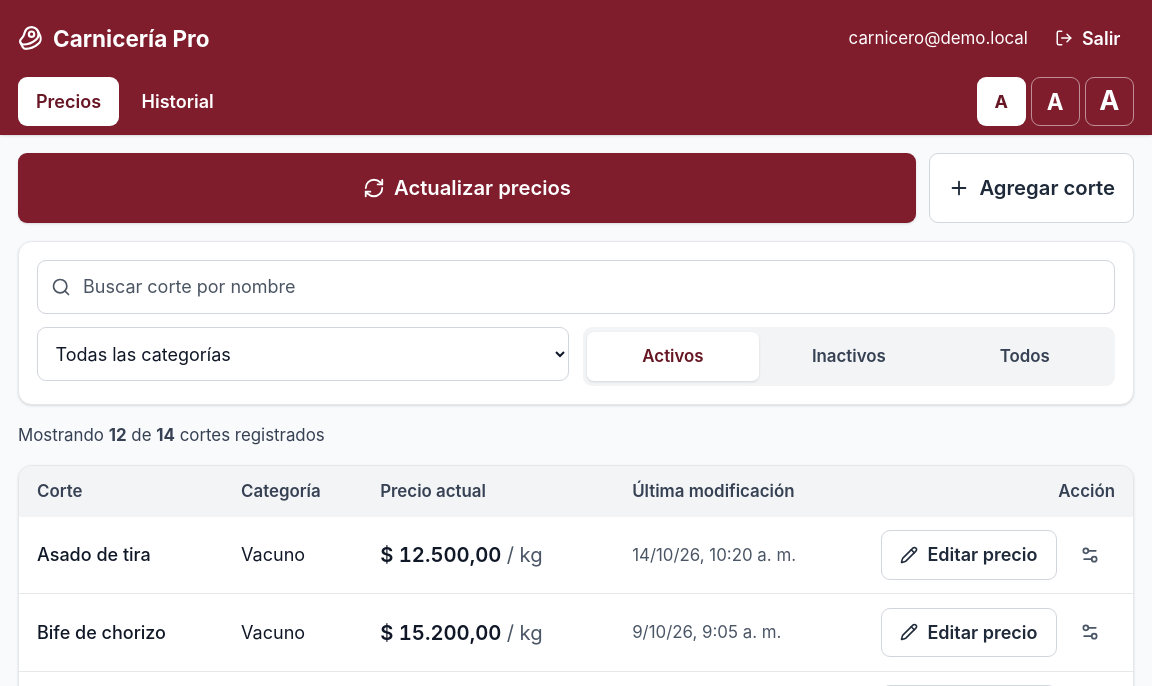
it: DashboardPage › muestra el error del servidor y conserva la edición si el precio cambió
This screenshot has width=1152, height=686.
Click the button with aria-label "Editar precio de Asado de tira" at (969, 555), box [881,530,1056,580]
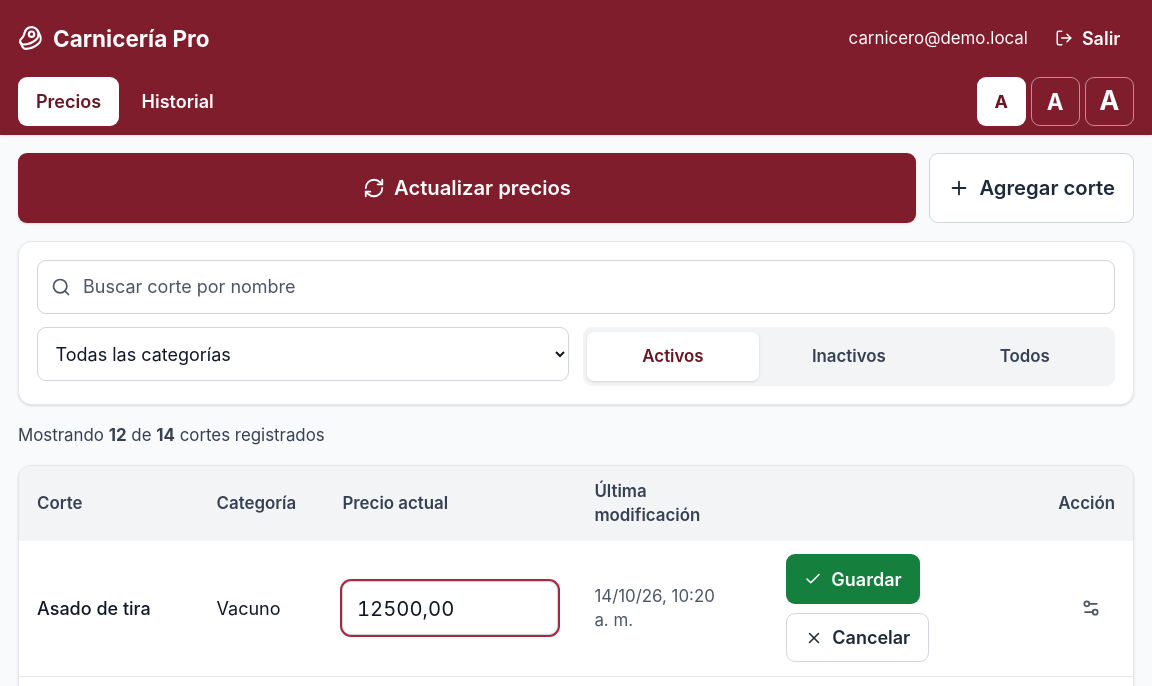
Replace the text in the field named "Nuevo precio de Asado de tira" with "13000" at (450, 608), box [342,581,558,635]
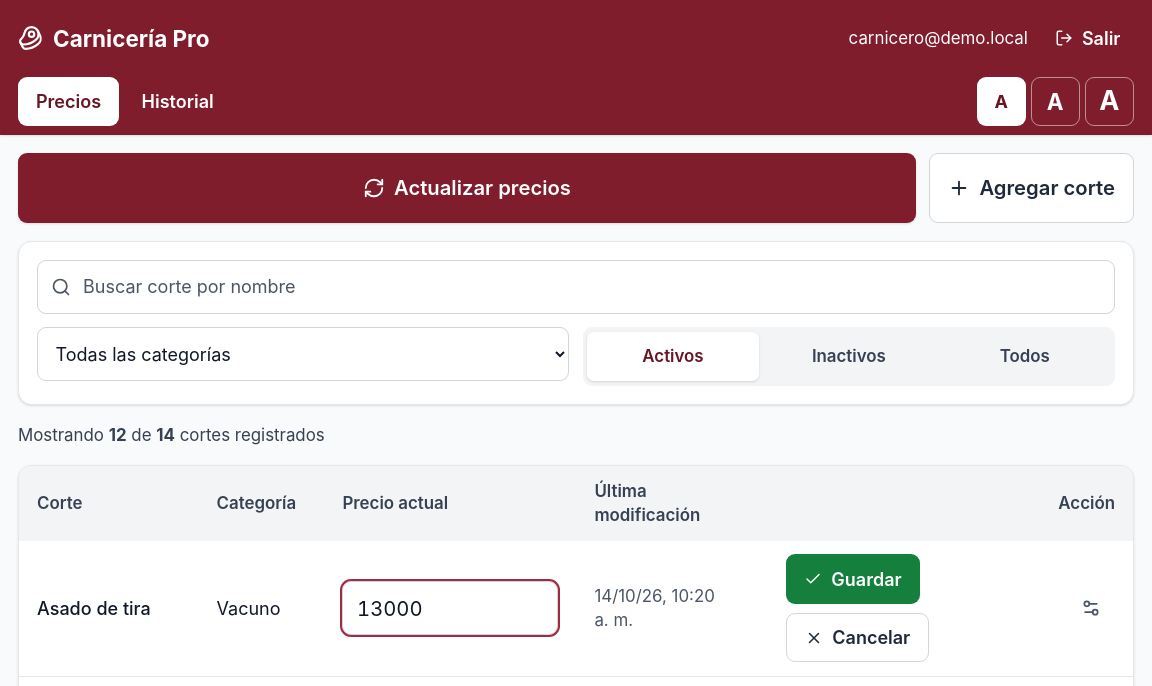
Click the button "Guardar" at (853, 579), box [786,554,920,604]
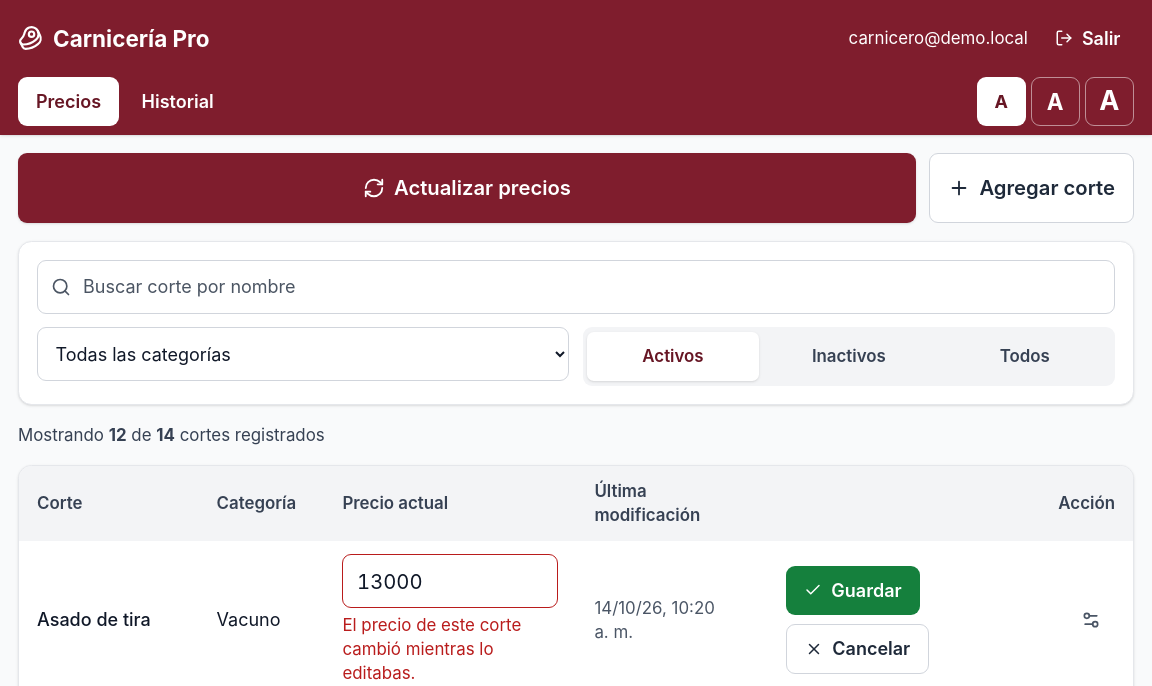
Now the message shows "cambió", box [342,615,521,683]
